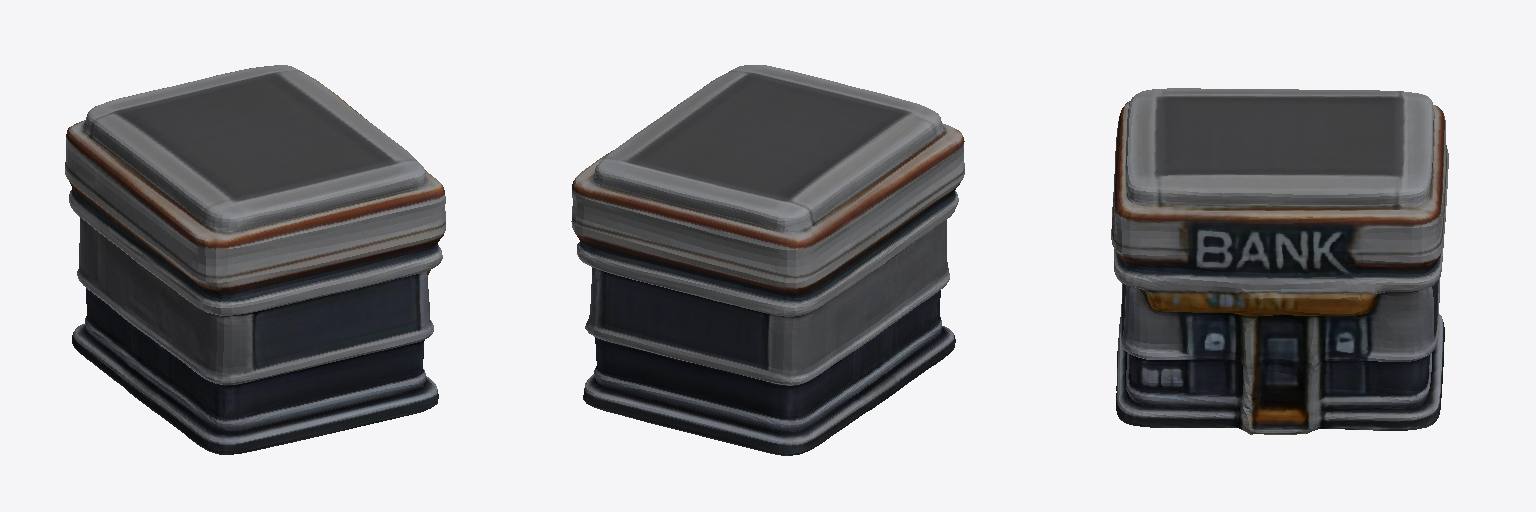
3 views of the same model, side by side, from view 1: azimuth 30°, elevation 25°; view 2: azimuth 150°, elevation 25°; view 3: azimuth 270°, elevation 25° (orthographic).
Parts seen in each view (by area): view 1: mesh; view 2: mesh; view 3: mesh.
Boxes of the visible parts, <box> form: mesh: <box>65,65,445,454</box>; mesh: <box>571,65,964,455</box>; mesh: <box>1111,88,1448,434</box>.
Size of the model in its own units: 0.8701 by 0.7868 by 0.9997.
Materials: 1 (1 with a texture image).